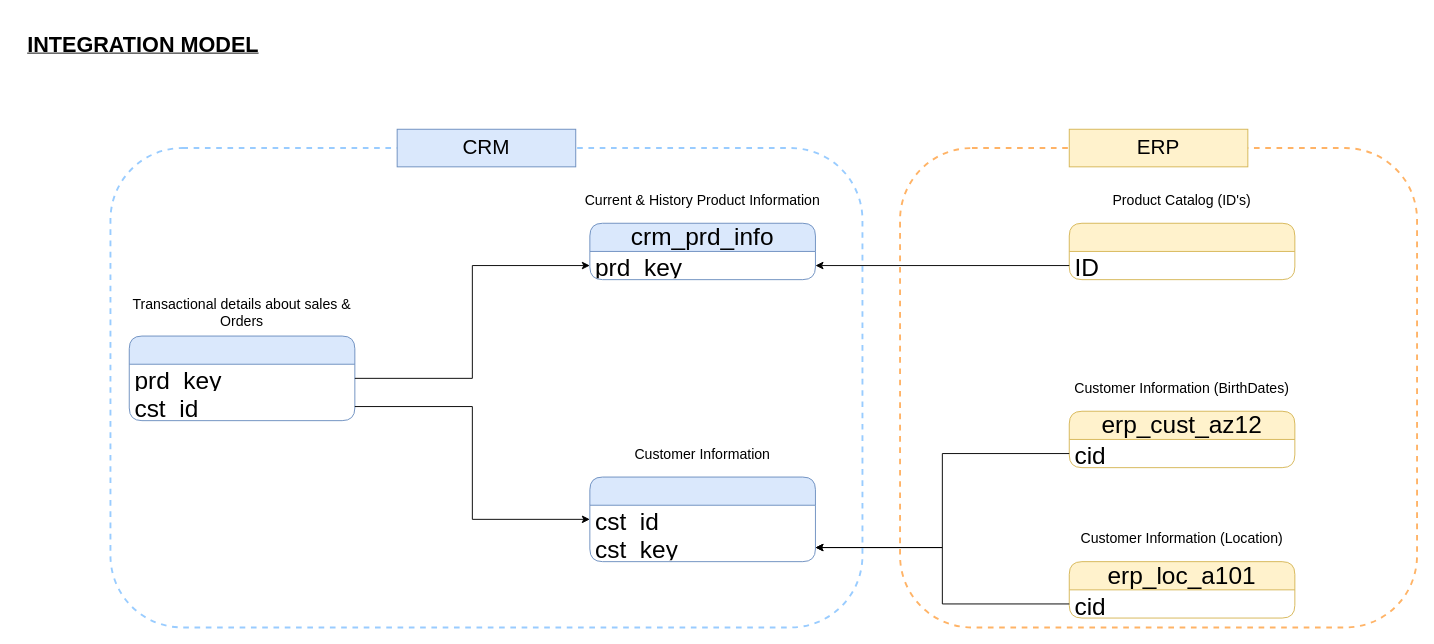
The diagram is 1434 pixels wide and 644 high, and some of its shapes have lost their labels. The shapes that lost their labels are listed below. From the top down, each one's box as (x1, y1, x2, y2) in pixels, then its label:
(1068, 222, 1295, 280): erp_px_cat_g1v2
(128, 335, 355, 421): crm_sales_details
(589, 476, 815, 562): crm_cust_info
